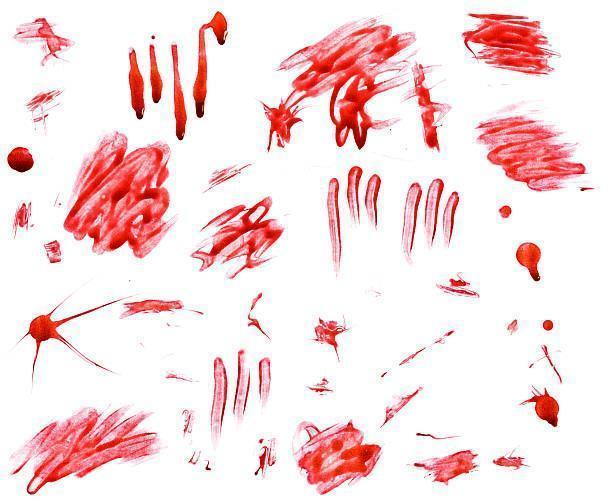Fire: (0, 2, 612, 500)
